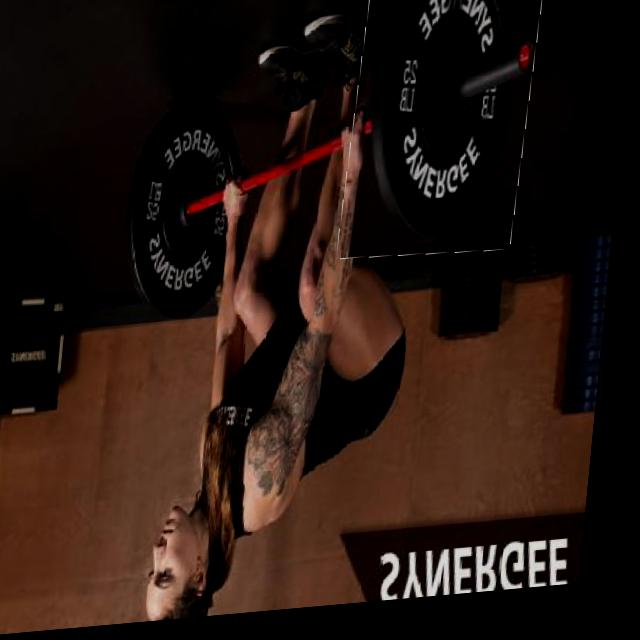barbell: (345, 1, 546, 271)
